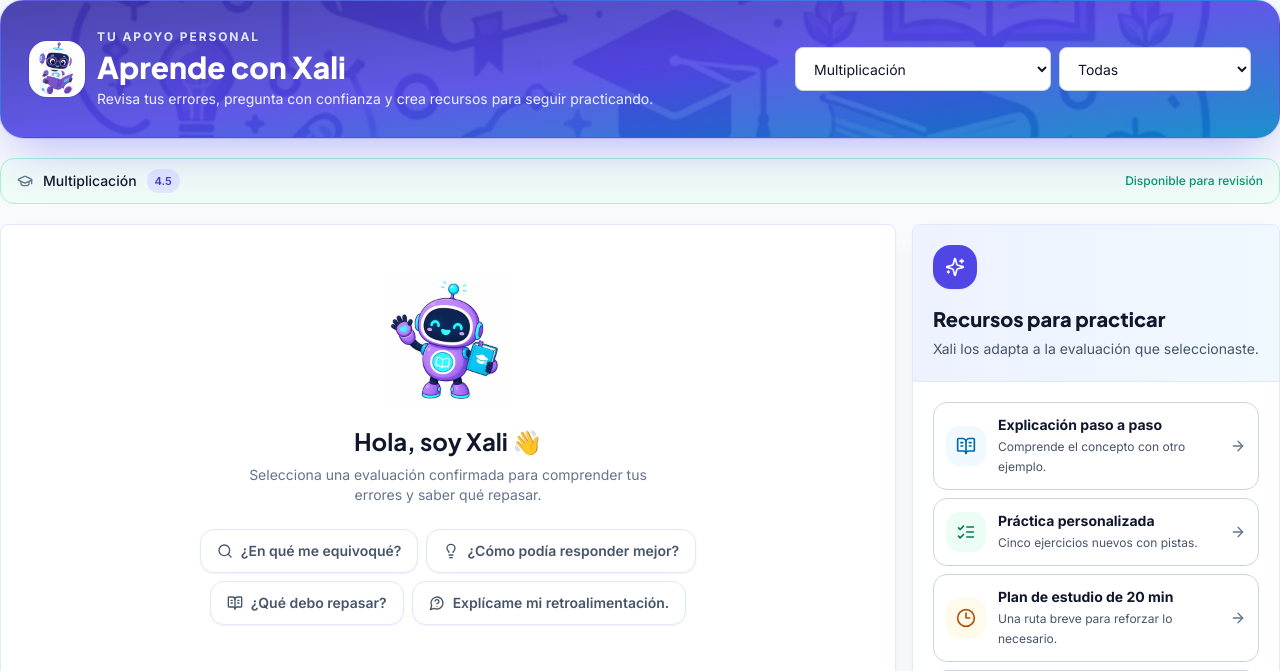
Test: XaliPage student policy › generates a personal resource from the confirmed evaluation
This screenshot has width=1280, height=671.
Step 1. Click the button "Práctica personalizada Cinco ejercicios nuevos con pistas." → (1096, 532), box [933,498,1259,566]
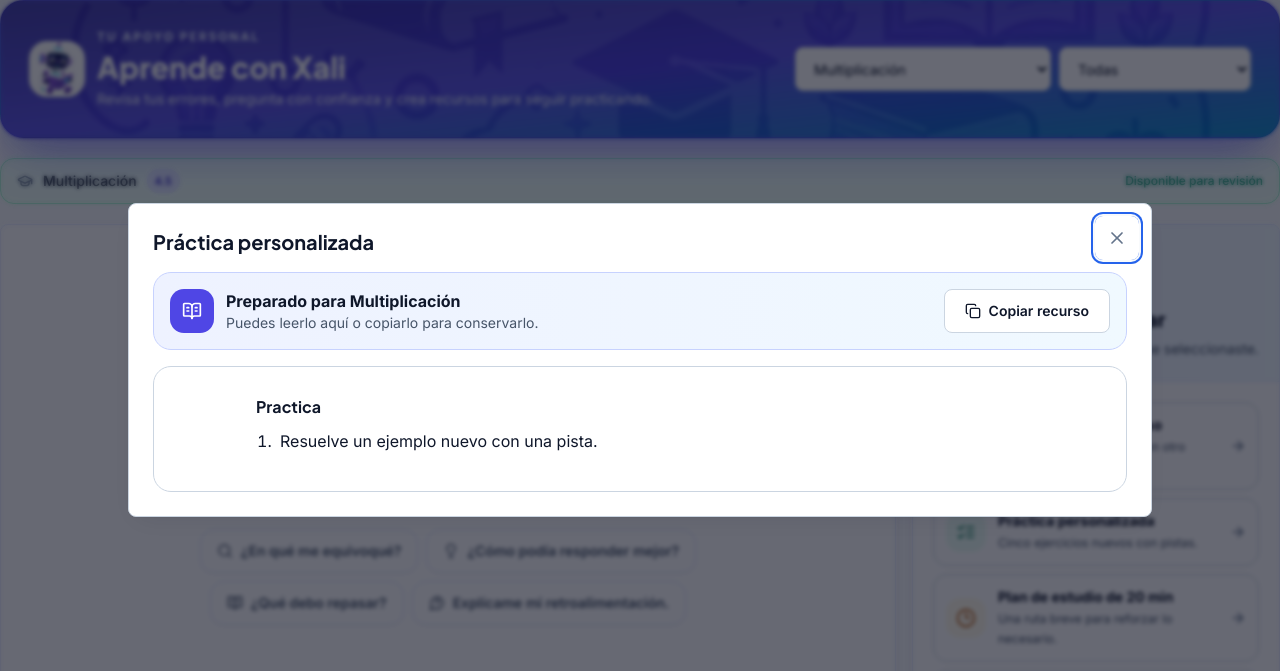
Expected: the dialog is shown, [128,203,1152,517]
Expected: the heading "Práctica personalizada" is shown, [153,229,374,254]
Expected: the list item "Resuelve un ejemplo nuevo con una pista." is shown, [280,431,598,451]
